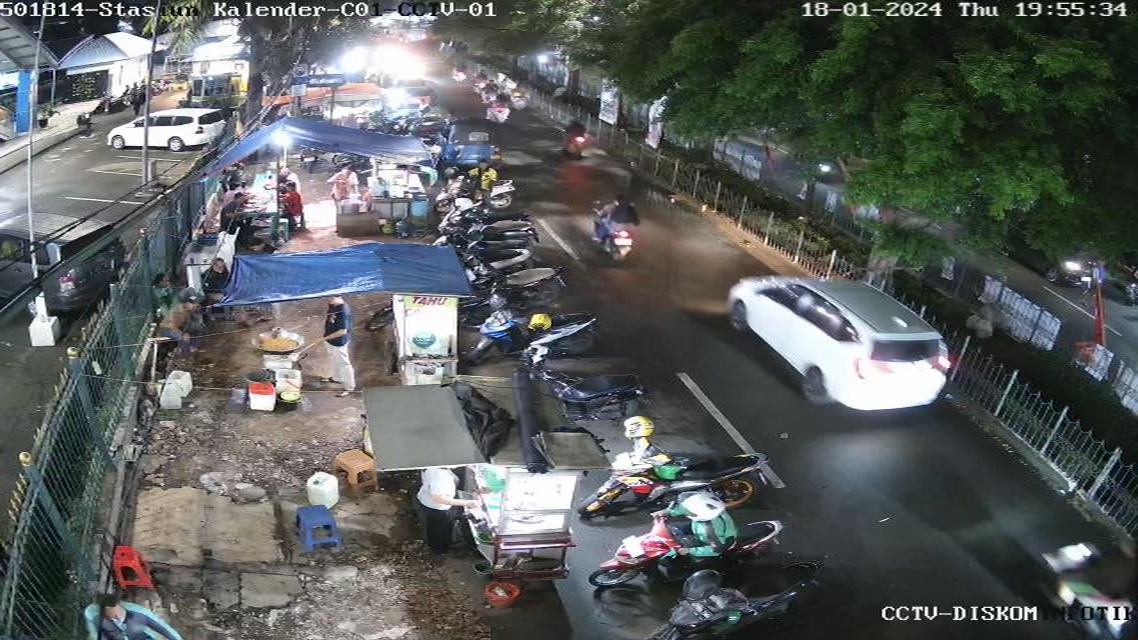Gerobak: (341, 382, 592, 591), (338, 153, 434, 237), (386, 290, 464, 382)
